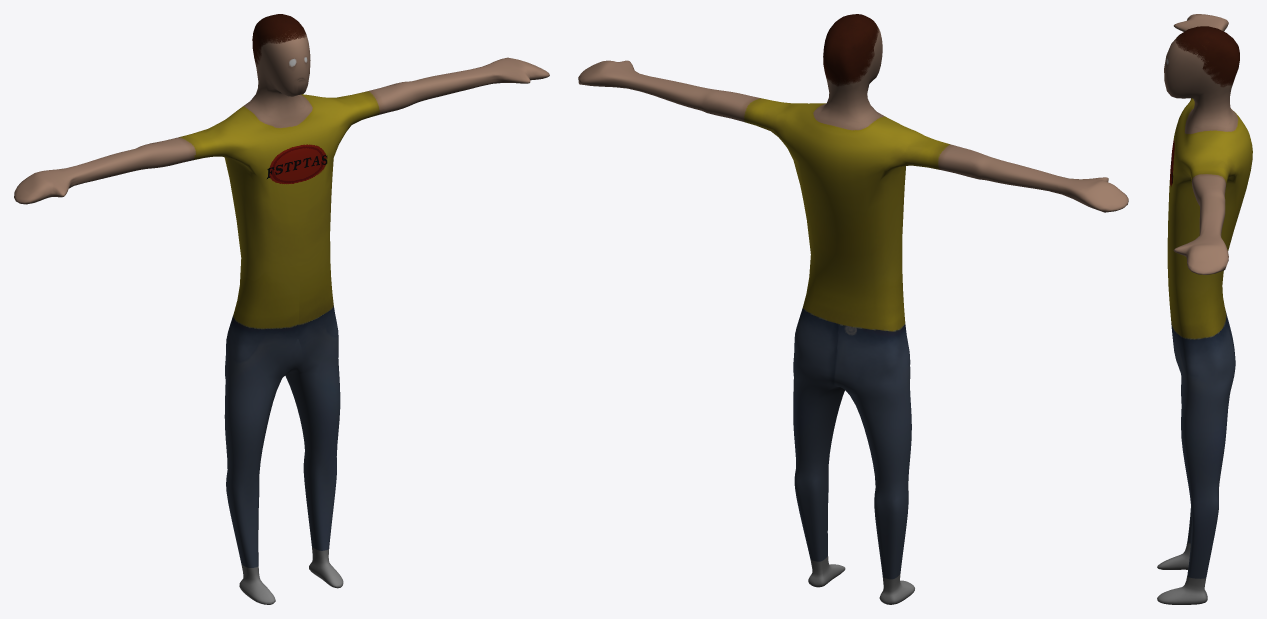
Rendered from reporter.fbx.
3 views of the same model, side by side, from view 1: azimuth 30°, elevation 25°; view 2: azimuth 150°, elevation 25°; view 3: azimuth 270°, elevation 25° (orthographic). The views are drawn at different scales.
Visible parts, largest first — view 1: Cube; view 2: Cube; view 3: Cube.
Part boxes in pixels (<box>): Cube: <box>14,14,549,604</box>; Cube: <box>578,14,1128,604</box>; Cube: <box>1157,14,1252,604</box>.
Size of the model in its own units: 11.24 by 11.42 by 1.78.
1 material, 1 textured.
